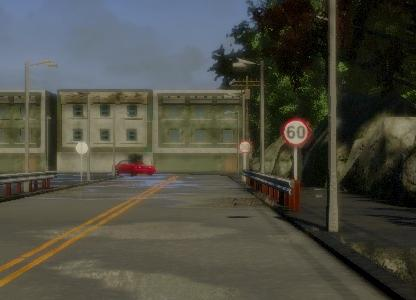Speed_30: (277, 110, 308, 143)
